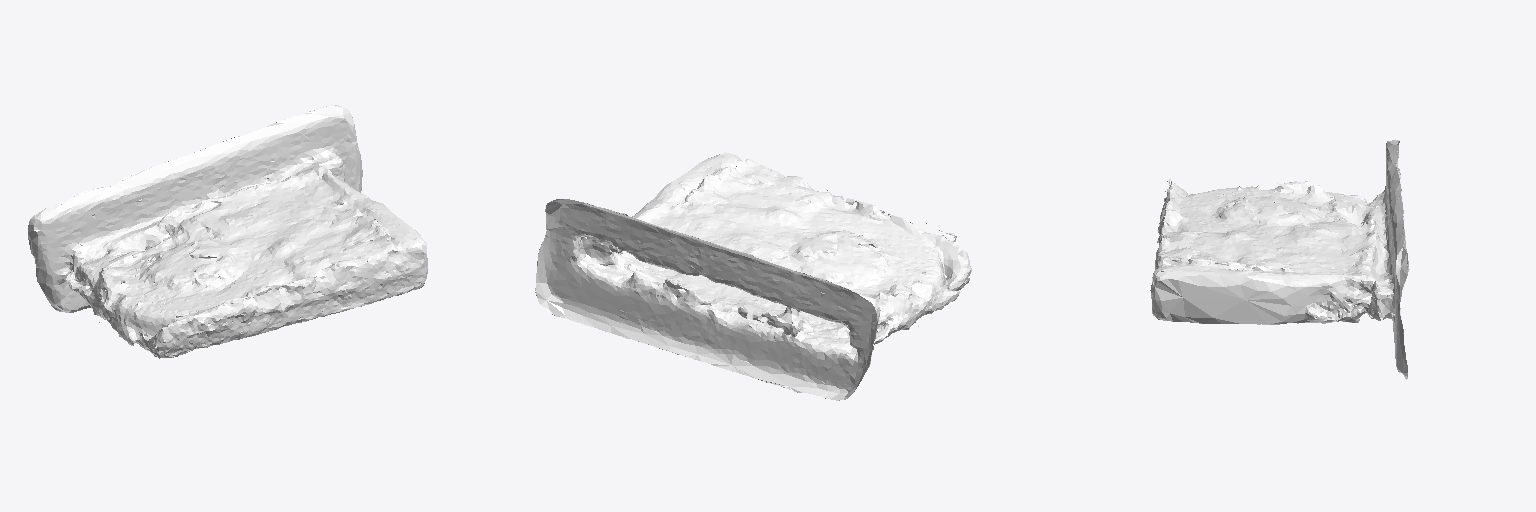
Rendered from drive.obj.
3 renders of one model, left to right at view 1: azimuth 30°, elevation 25°; view 2: azimuth 150°, elevation 25°; view 3: azimuth 270°, elevation 25°, orthographic.
Bounding box in the file's own units: 3.14 × 1.26 × 2.09.